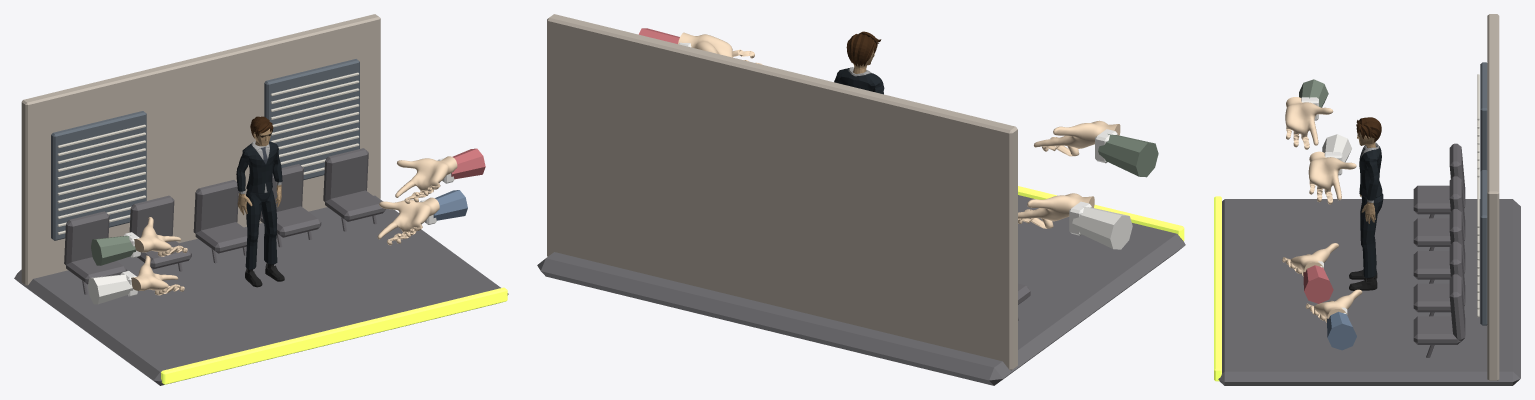
File: crossfire.glb
3 renders of one model, left to right at view 1: azimuth 30°, elevation 25°; view 2: azimuth 150°, elevation 25°; view 3: azimuth 270°, elevation 25°, orthographic. The views are drawn at different scales.
Visible parts, largest first — view 1: Stage_Platform, BackWall, Window_-1, Window_1, Stage_Trim, Suit_Body, Suit_Legs, ChairBack_4, ChairBack_2, ChairBack_0, r_handMeshNode, r_handMeshNode.001 (+15 smaller); view 2: BackWall, Stage_Platform, FingerGun_2_Sleeve, FingerGun_0_Sleeve, l_handMeshNode, l_handMeshNode.001, Stage_Trim, Suit_Head, r_handMeshNode, Suit_Body; view 3: Stage_Platform, BackWall, Stage_Trim, l_handMeshNode, l_handMeshNode.001, Suit_Body, Window_1, ChairSeat_4, Suit_Legs, ChairSeat_3, ChairSeat_0, ChairSeat_2 (+15 smaller).
Part boxes in pixels (x1=…): Stage_Platform: x1=14, y1=195, x2=508, y2=385; BackWall: x1=21, y1=14, x2=380, y2=285; Window_-1: x1=51, y1=111, x2=146, y2=240; Window_1: x1=264, y1=59, x2=359, y2=180; Stage_Trim: x1=161, y1=287, x2=507, y2=384; Suit_Body: x1=236, y1=141, x2=282, y2=214; Suit_Legs: x1=245, y1=190, x2=277, y2=269; ChairBack_4: x1=323, y1=148, x2=368, y2=201; ChairBack_2: x1=193, y1=180, x2=238, y2=233; ChairBack_0: x1=64, y1=211, x2=109, y2=264; r_handMeshNode: x1=395, y1=156, x2=457, y2=203; r_handMeshNode.001: x1=377, y1=197, x2=439, y2=245; BackWall: x1=547, y1=14, x2=1017, y2=370; Stage_Platform: x1=537, y1=195, x2=1185, y2=385; FingerGun_2_Sleeve: x1=1072, y1=206, x2=1132, y2=249; FingerGun_0_Sleeve: x1=1098, y1=134, x2=1158, y2=177; l_handMeshNode: x1=1033, y1=120, x2=1120, y2=156; l_handMeshNode.001: x1=1018, y1=193, x2=1094, y2=228; Stage_Trim: x1=1018, y1=186, x2=1184, y2=241; Suit_Head: x1=846, y1=31, x2=881, y2=73; r_handMeshNode: x1=678, y1=32, x2=762, y2=64; Suit_Body: x1=834, y1=67, x2=884, y2=94; Stage_Platform: x1=1218, y1=199, x2=1520, y2=385; BackWall: x1=1487, y1=14, x2=1499, y2=380; Stage_Trim: x1=1214, y1=196, x2=1221, y2=381; l_handMeshNode: x1=1285, y1=97, x2=1333, y2=149; l_handMeshNode.001: x1=1308, y1=151, x2=1356, y2=204; Suit_Body: x1=1359, y1=142, x2=1382, y2=223; Window_1: x1=1480, y1=170, x2=1487, y2=325; ChairSeat_4: x1=1413, y1=316, x2=1460, y2=344; Suit_Legs: x1=1360, y1=193, x2=1383, y2=277; ChairSeat_3: x1=1413, y1=283, x2=1450, y2=312; ChairSeat_0: x1=1413, y1=185, x2=1450, y2=214; ChairSeat_2: x1=1413, y1=251, x2=1450, y2=279.
Size of the model in its own units: 9.23 by 4.36 by 6.15.
